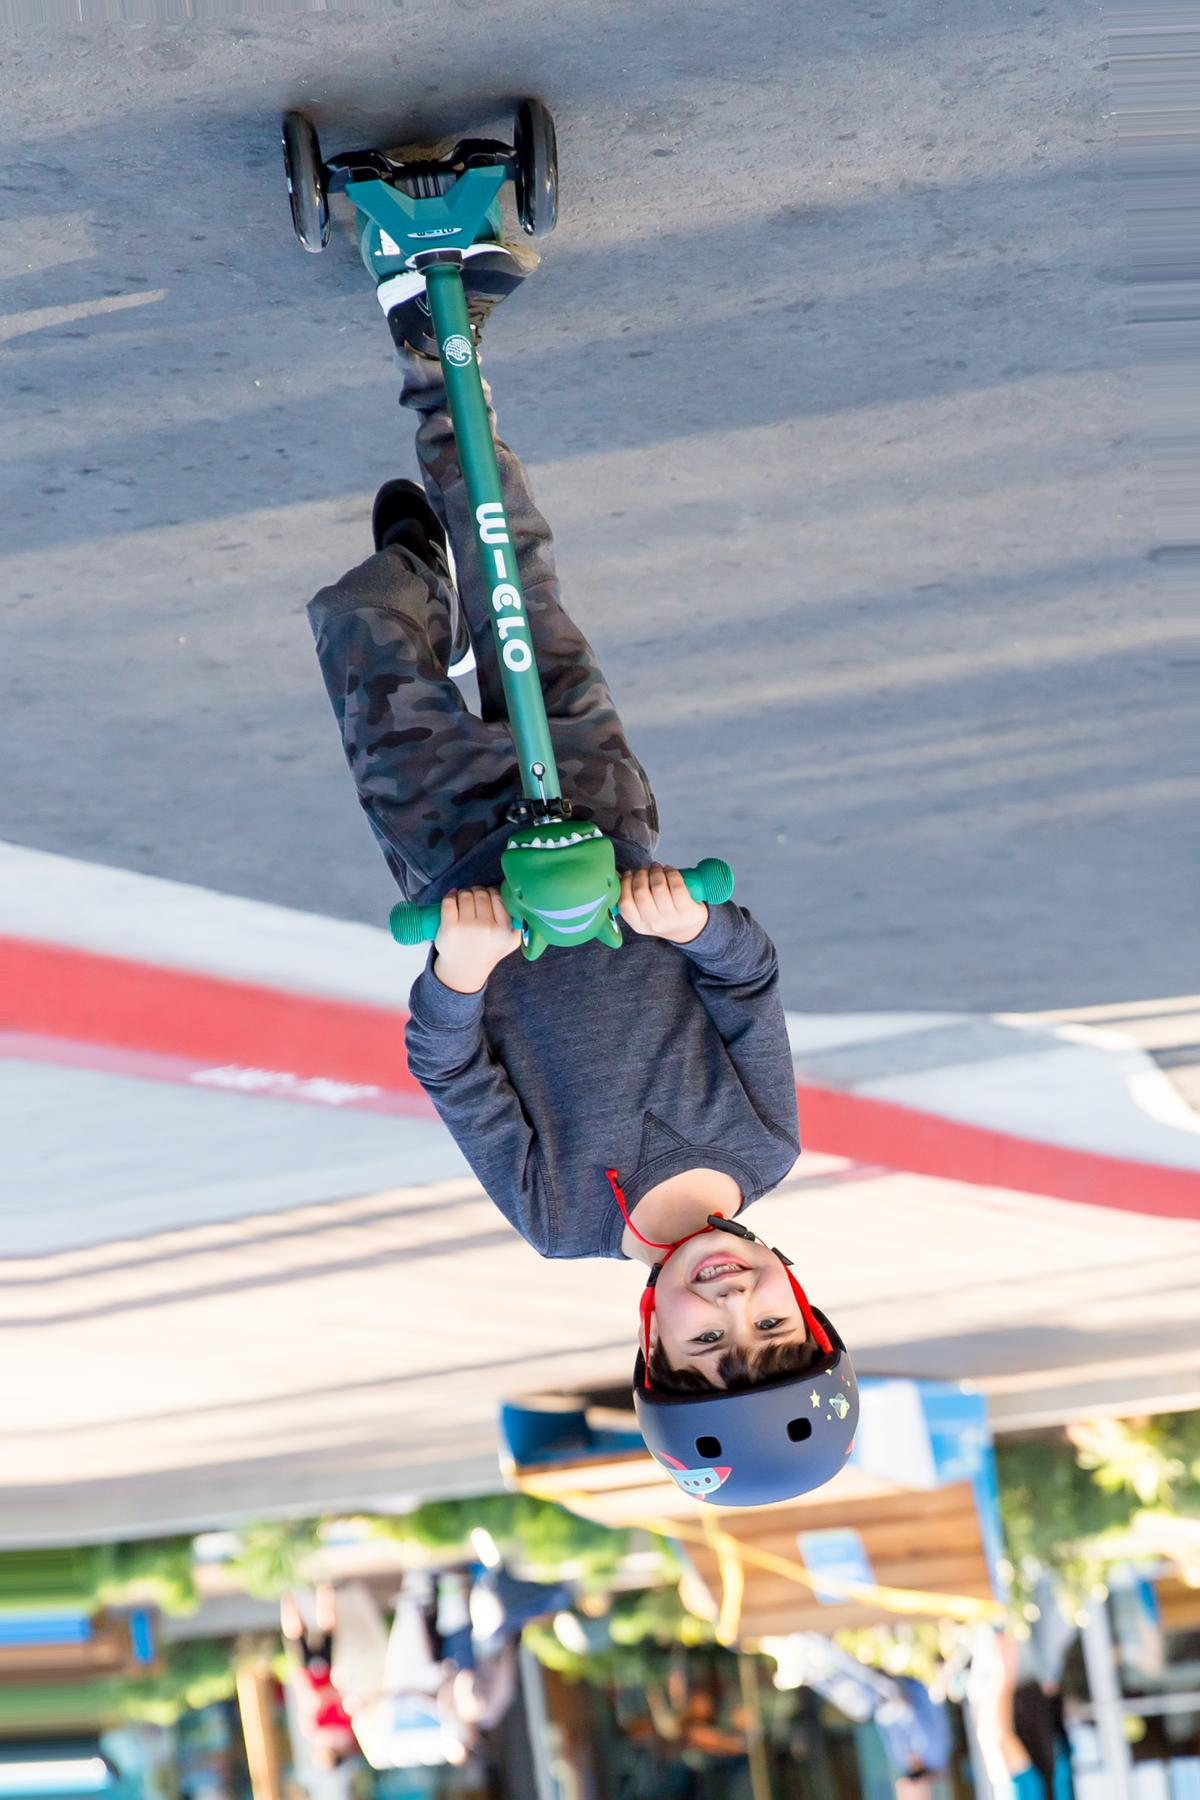scooter: (280, 90, 739, 967)
with helmet: (633, 1223, 867, 1517)
